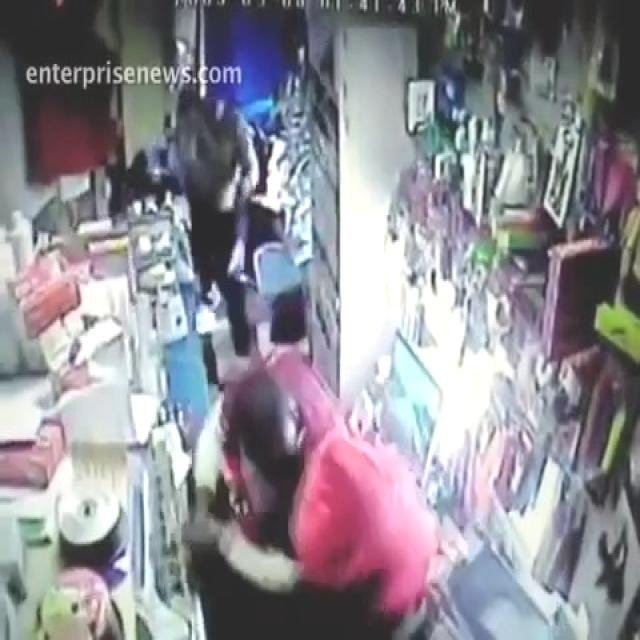fight: (180, 342, 430, 627)
